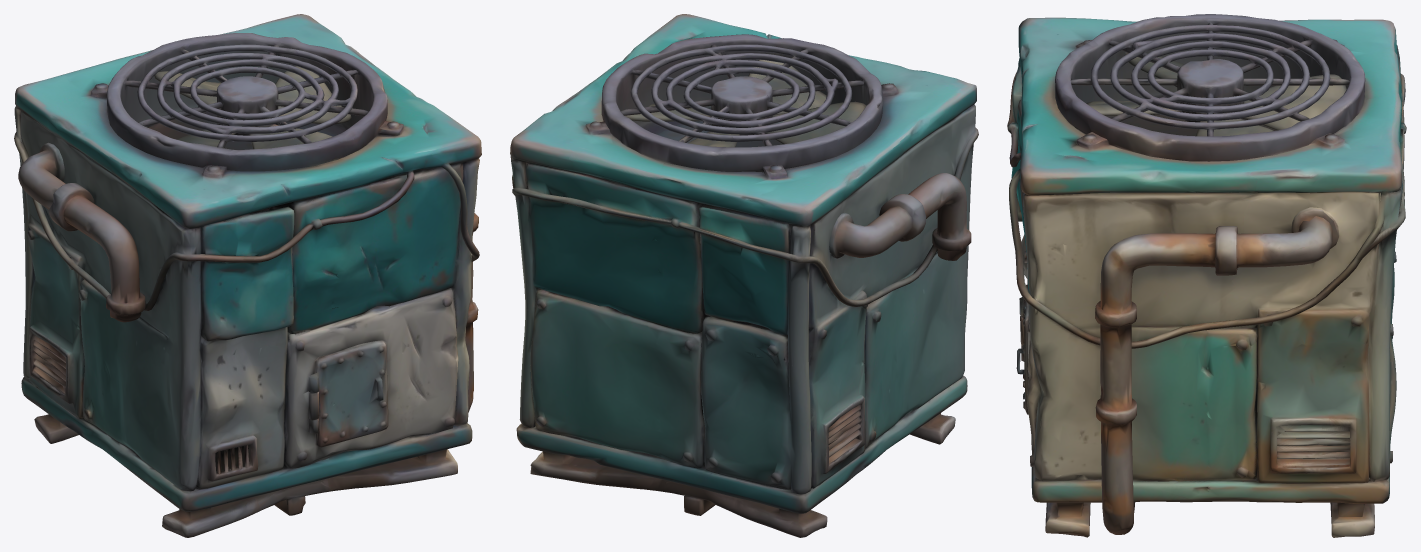
File: roof_ac_unit.glb
3 renders of one model, left to right at view 1: azimuth 30°, elevation 25°; view 2: azimuth 150°, elevation 25°; view 3: azimuth 270°, elevation 25°, orthographic. The views are drawn at different scales.
Parts seen in each view (by area): view 1: tripo_part_0, tripo_part_1, tripo_part_3, tripo_part_5, tripo_part_2, tripo_part_6, tripo_part_7; view 2: tripo_part_0, tripo_part_1, tripo_part_3, tripo_part_4, tripo_part_6; view 3: tripo_part_0, tripo_part_1, tripo_part_2, tripo_part_7, tripo_part_5, tripo_part_8, tripo_part_6.
Part boxes in pixels (x1,y1,x2,y2): tripo_part_0: (14,14,481,537); tripo_part_1: (103,33,387,171); tripo_part_3: (18,142,145,322); tripo_part_5: (275,66,351,124); tripo_part_2: (465,213,478,412); tripo_part_6: (251,124,332,149); tripo_part_7: (154,71,220,104); tripo_part_0: (510,14,978,537); tripo_part_1: (601,34,882,174); tripo_part_3: (829,173,971,260); tripo_part_4: (765,94,867,144); tripo_part_6: (748,59,826,113); tripo_part_0: (1007,17,1406,537); tripo_part_1: (1055,14,1365,161); tripo_part_2: (1095,216,1332,534); tripo_part_7: (1241,74,1346,130); tripo_part_5: (1196,94,1273,136); tripo_part_8: (1291,207,1338,248); tripo_part_6: (1086,101,1182,116).
Size of the model in its own units: 0.98 by 0.9049 by 0.8324.
Materials: 1 (1 with a texture image).
